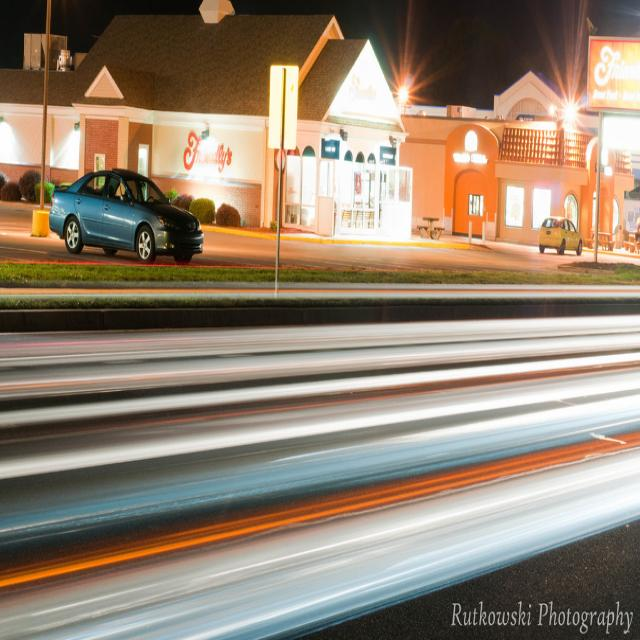car: (48, 163, 203, 264), (537, 214, 582, 256)
